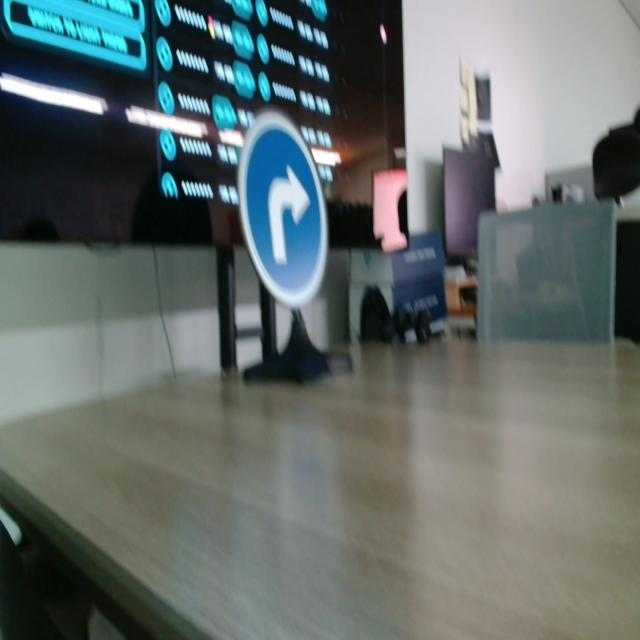right_dierection: (228, 75, 343, 316)
